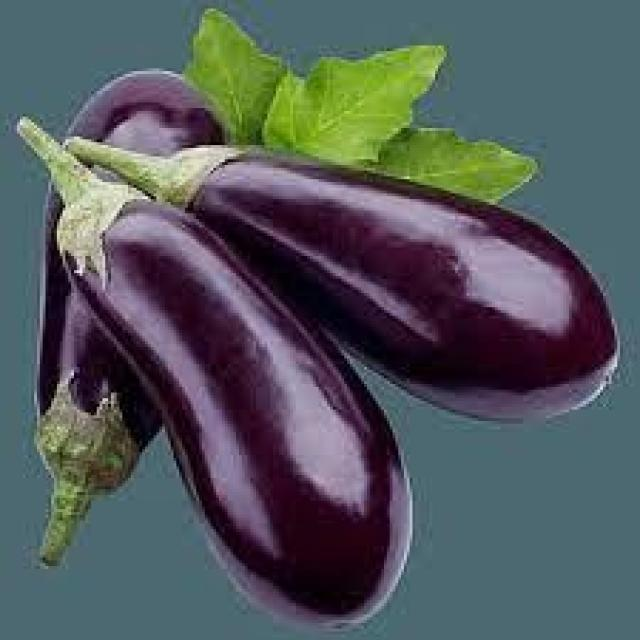eggplant: (14, 113, 415, 626), (61, 137, 619, 418), (33, 68, 231, 563)
